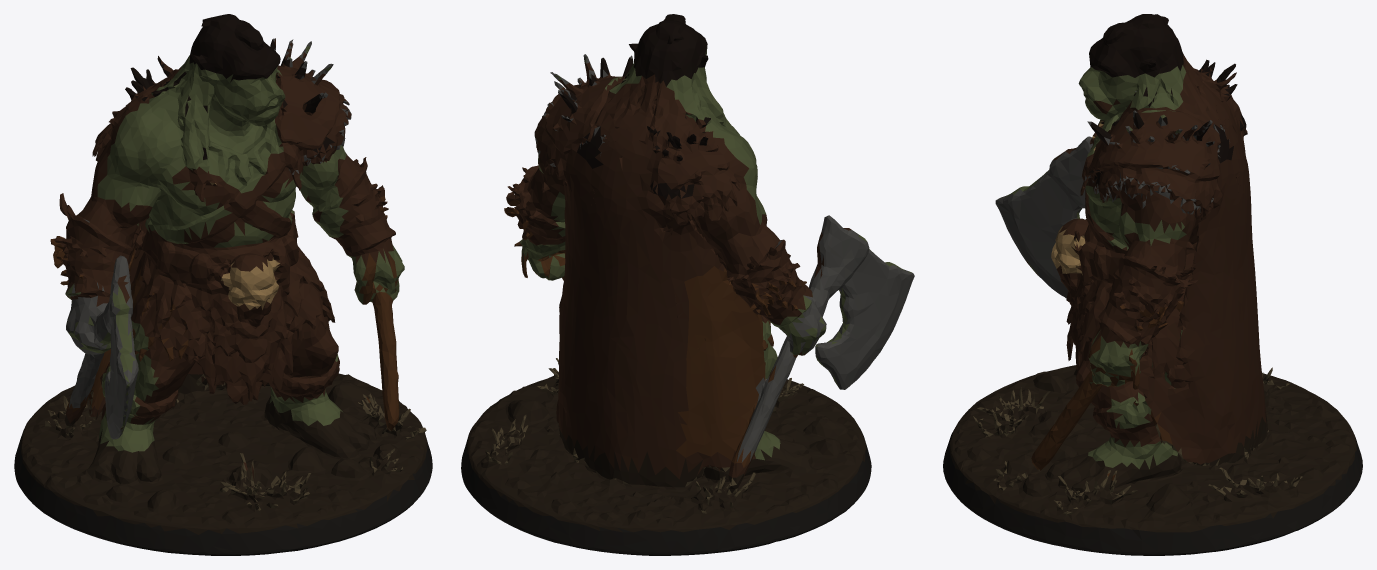
Rendered from orc.glb.
The picture shows the model from 3 angles, left to right: view 1: azimuth 30°, elevation 25°; view 2: azimuth 150°, elevation 25°; view 3: azimuth 270°, elevation 25°; orthographic projection.
Visible parts, largest first — view 1: tmpshd1osz1.ply; view 2: tmpshd1osz1.ply; view 3: tmpshd1osz1.ply.
Part boxes in pixels (box(x1,y1,x2,y2)): tmpshd1osz1.ply: box(14, 14, 432, 555); tmpshd1osz1.ply: box(461, 14, 914, 555); tmpshd1osz1.ply: box(943, 14, 1362, 555).
Size of the model in its own units: 1.64 by 1.96 by 1.65.
